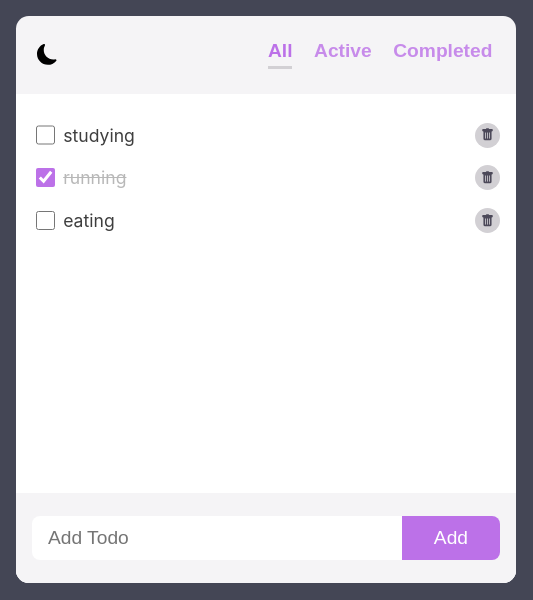
it: App › Component › adds a todo
Step 1. Type "drawing" into the field with placeholder "Add Todo" → (217, 538), box [32,516,402,560]
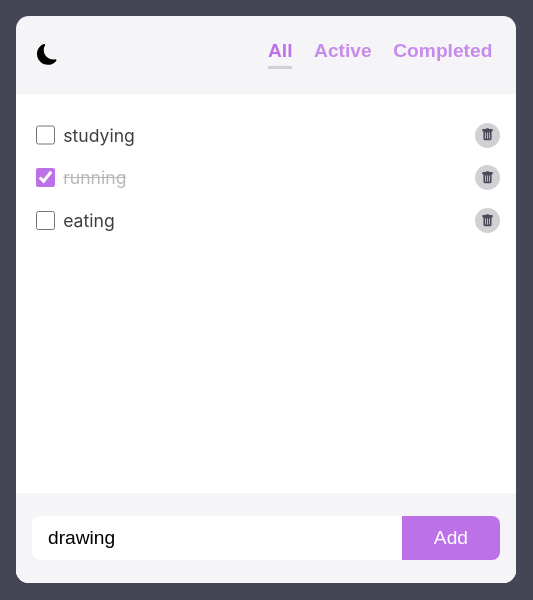
Step 2. Click the button "Add" → click(451, 538), box [402,516,500,560]
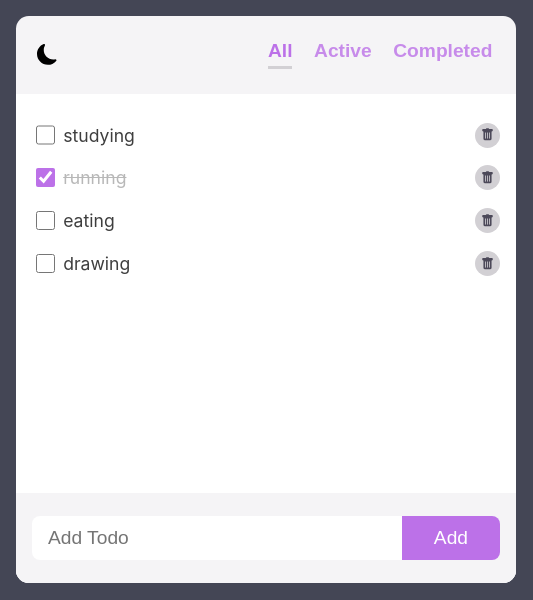
Result: the label with test id "todo-text" reads "drawing" at [63,253,130,274]
